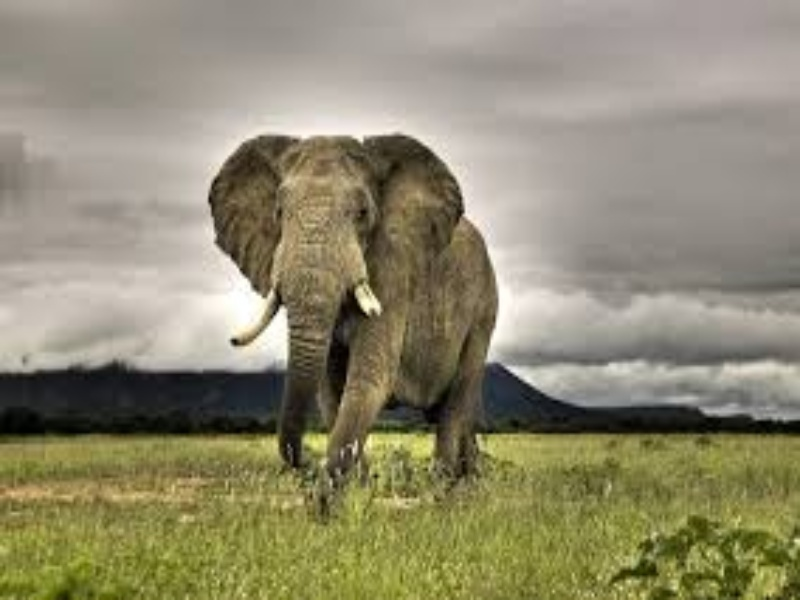elephant: (200, 120, 542, 519)
